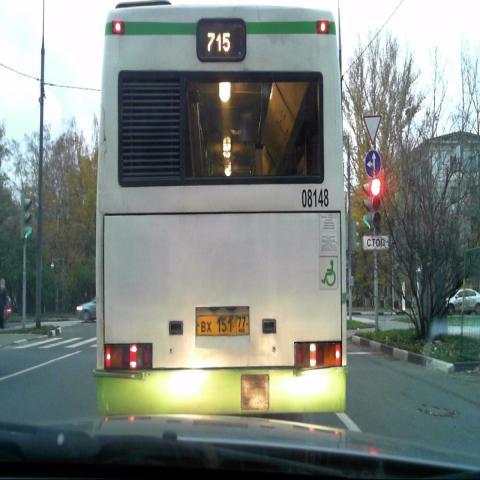4_1_5: (365, 150, 382, 180)
